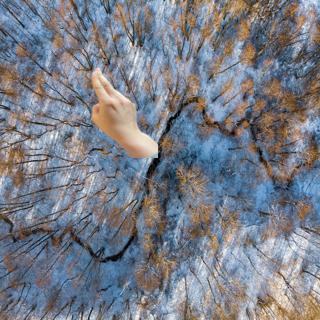DHAVE: (85, 62, 140, 139)
